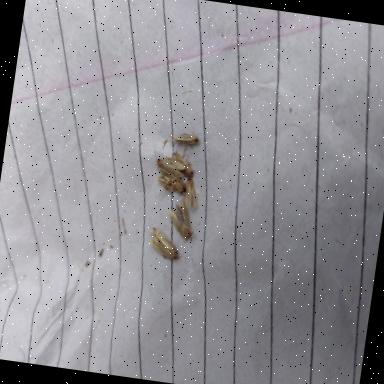pbw: (164, 196, 200, 244), (143, 226, 184, 260), (166, 143, 198, 177), (153, 175, 188, 202), (164, 128, 208, 148), (180, 177, 201, 209)
